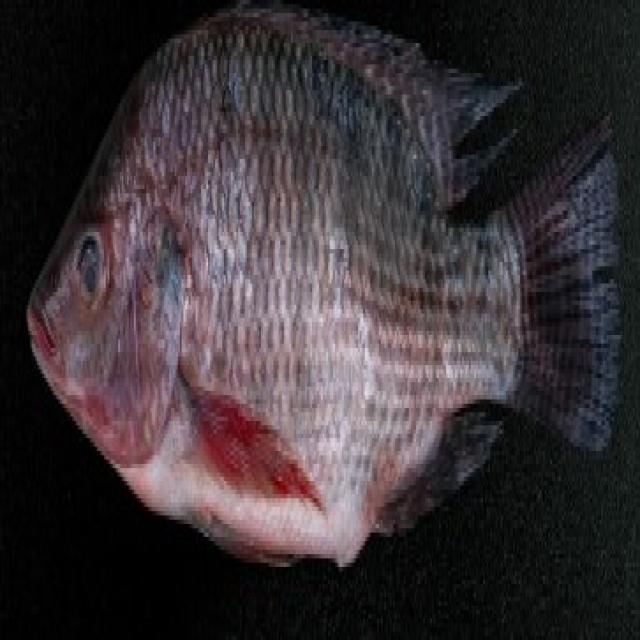ikan: (24, 0, 624, 571)
